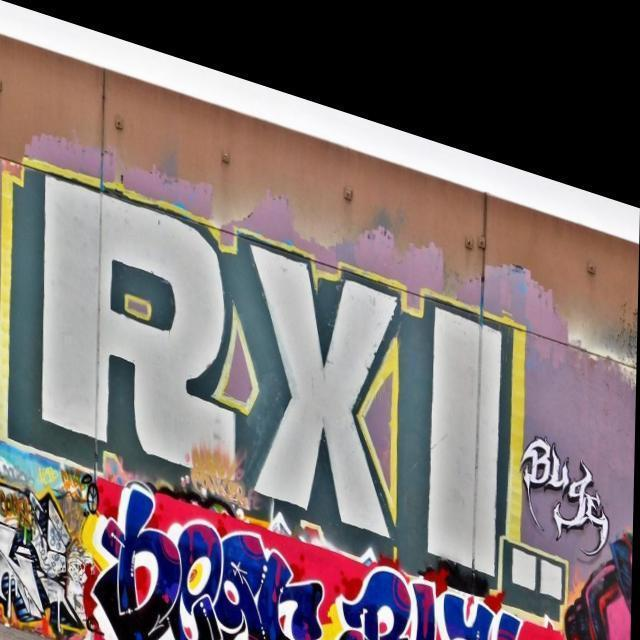nonspitting: (6, 160, 572, 608), (95, 481, 524, 640), (0, 476, 90, 634), (520, 430, 612, 555)
